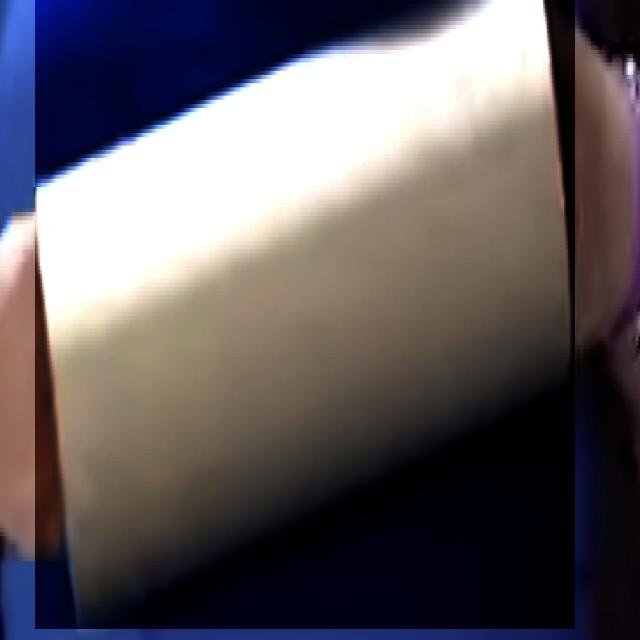Coral: (36, 0, 576, 629)
